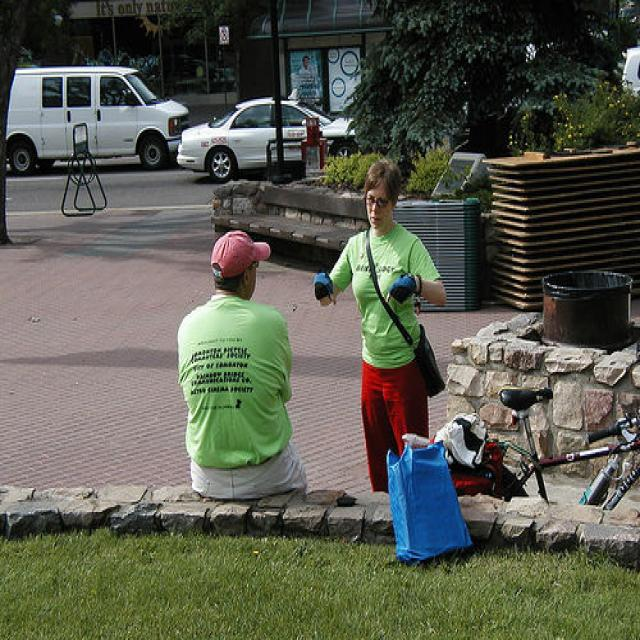light_vehicle: (4, 65, 192, 172), (177, 97, 356, 181)
